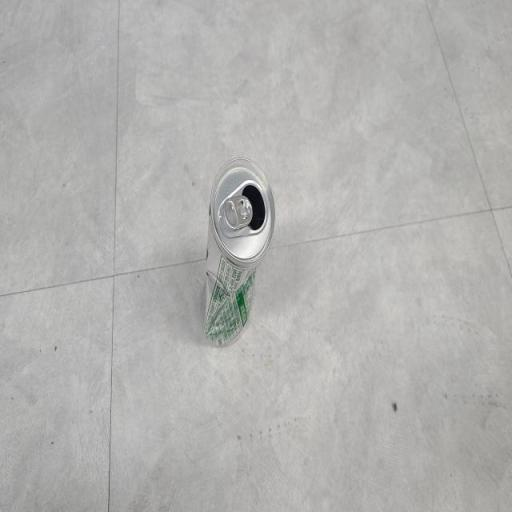metal: (187, 130, 292, 378)
